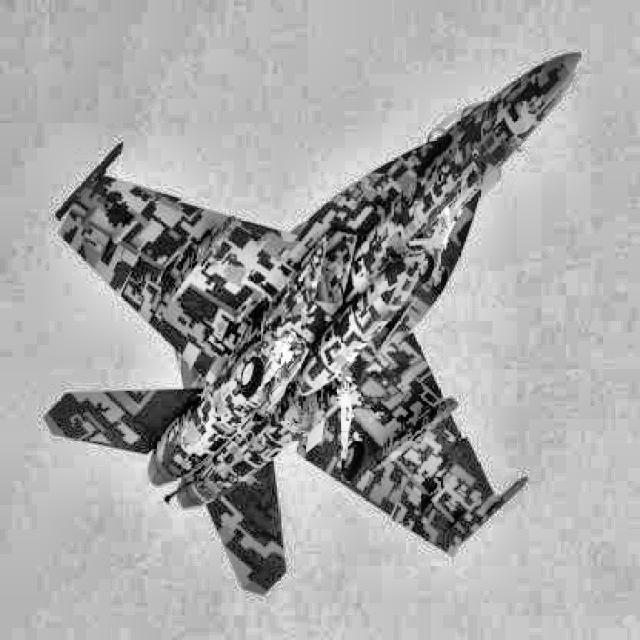F18: (42, 52, 582, 596)
